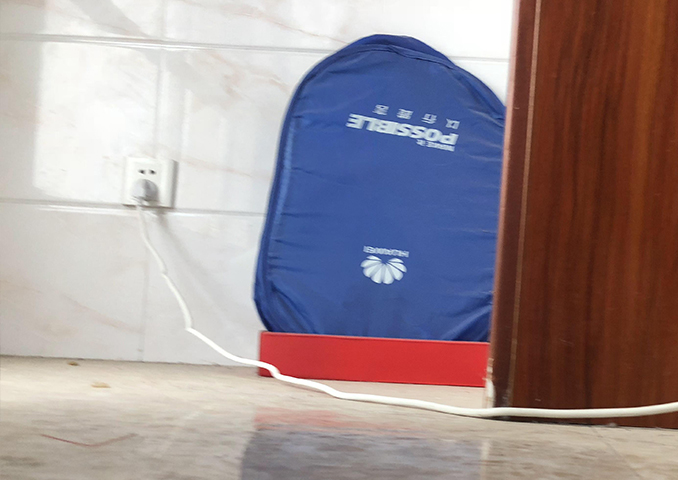wire: (129, 175, 678, 422)
